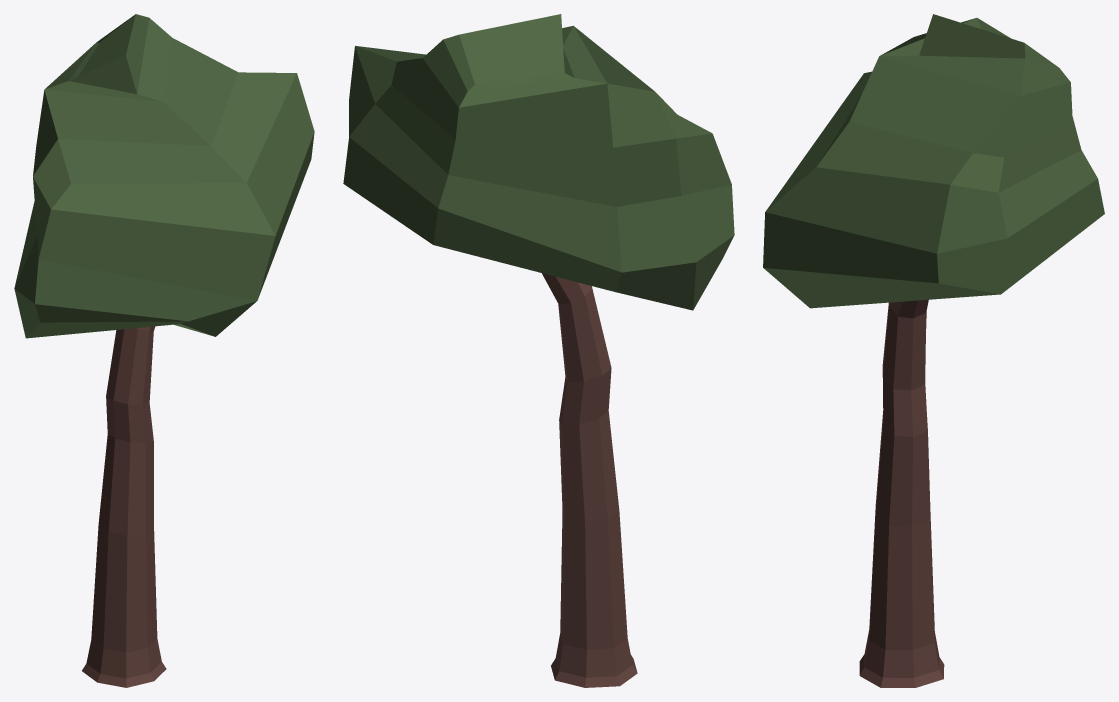
The model's file is Apple_2.glb.
The picture shows the model from 3 angles, left to right: view 1: azimuth 30°, elevation 25°; view 2: azimuth 150°, elevation 25°; view 3: azimuth 270°, elevation 25°; orthographic projection. The views are drawn at different scales.
Visible parts, largest first — view 1: Apple_2; view 2: Apple_2; view 3: Apple_2.
Part boxes in pixels (x1,y1,x2,y2): Apple_2: (14, 14, 314, 687); Apple_2: (343, 14, 734, 687); Apple_2: (763, 14, 1104, 687).
Size of the model in its own units: 0.5149 by 0.9389 by 0.4378.
